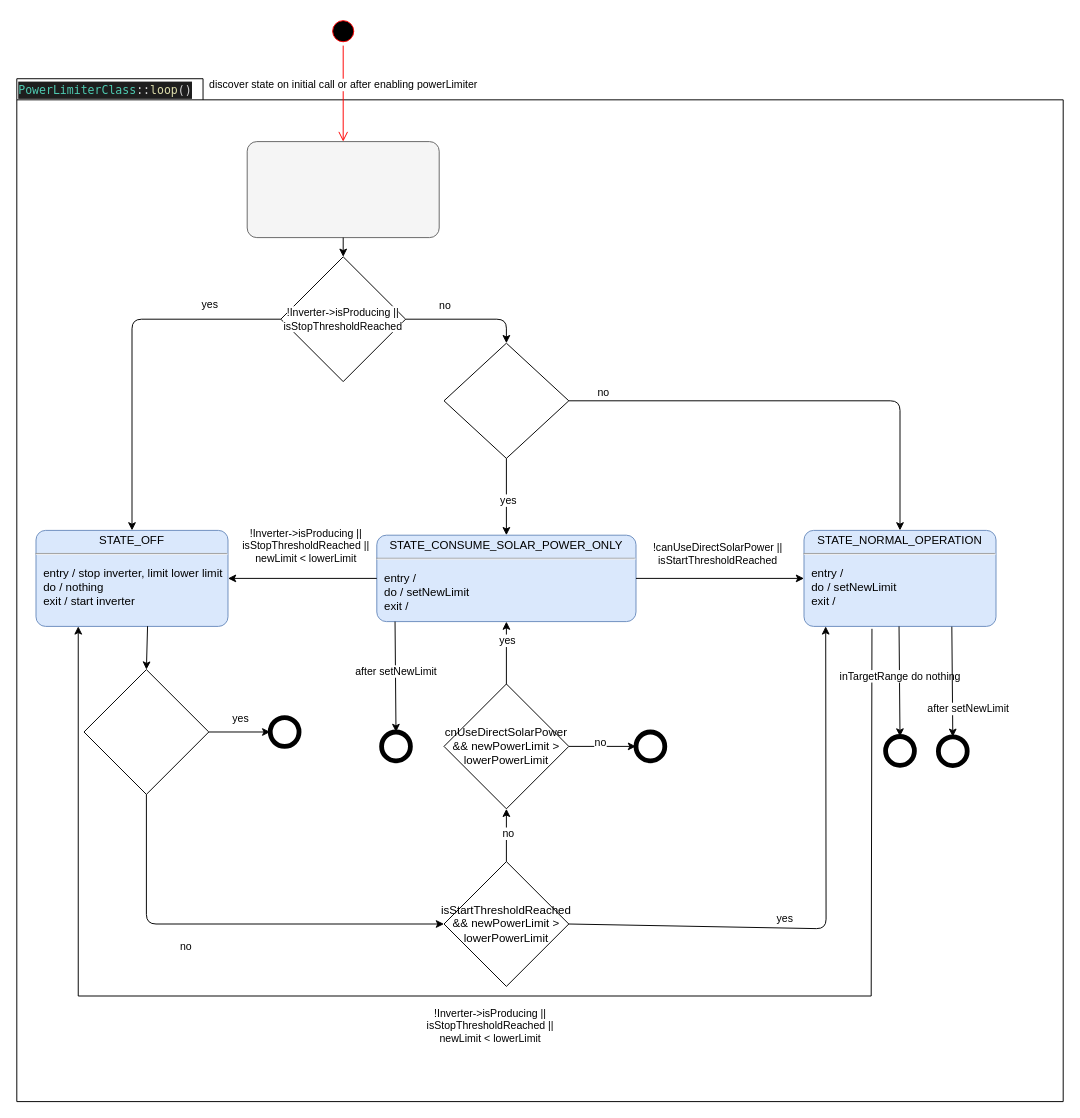
The diagram is 1080 pixels wide and 1118 high, and some of its shapes have lost their labels. Here are the shapes that lost their labels. From the top down, the box of each, then its label:
(246, 141, 439, 238): STATE_DISOVER entry / do / nothing exit /
(443, 342, 569, 458): canUseDirectSolarPower
(83, 669, 209, 794): isStopThresholdReached
